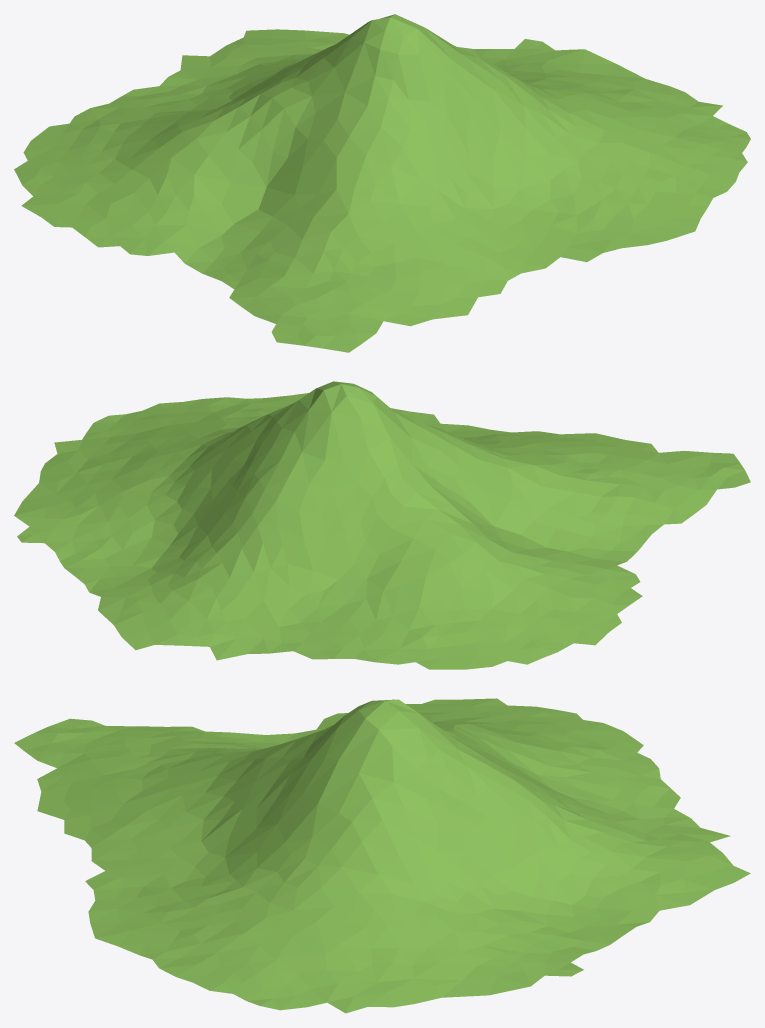
Rendered from MT_Mountain_L_a_24_LOD.fbx.
The picture shows the model from 3 angles, top to bottom: view 1: azimuth 30°, elevation 25°; view 2: azimuth 150°, elevation 25°; view 3: azimuth 270°, elevation 25°; orthographic projection. The views are drawn at different scales.
Visible parts, largest first — view 1: MT_Mountain_L_a_24_LOD0; view 2: MT_Mountain_L_a_24_LOD0; view 3: MT_Mountain_L_a_24_LOD0.
Part boxes in pixels (<box>): MT_Mountain_L_a_24_LOD0: <box>14,14,750,352</box>; MT_Mountain_L_a_24_LOD0: <box>14,381,750,669</box>; MT_Mountain_L_a_24_LOD0: <box>14,698,750,1013</box>.
Size of what is drawn, in the model's own units: 8671 by 2025 by 8552.
